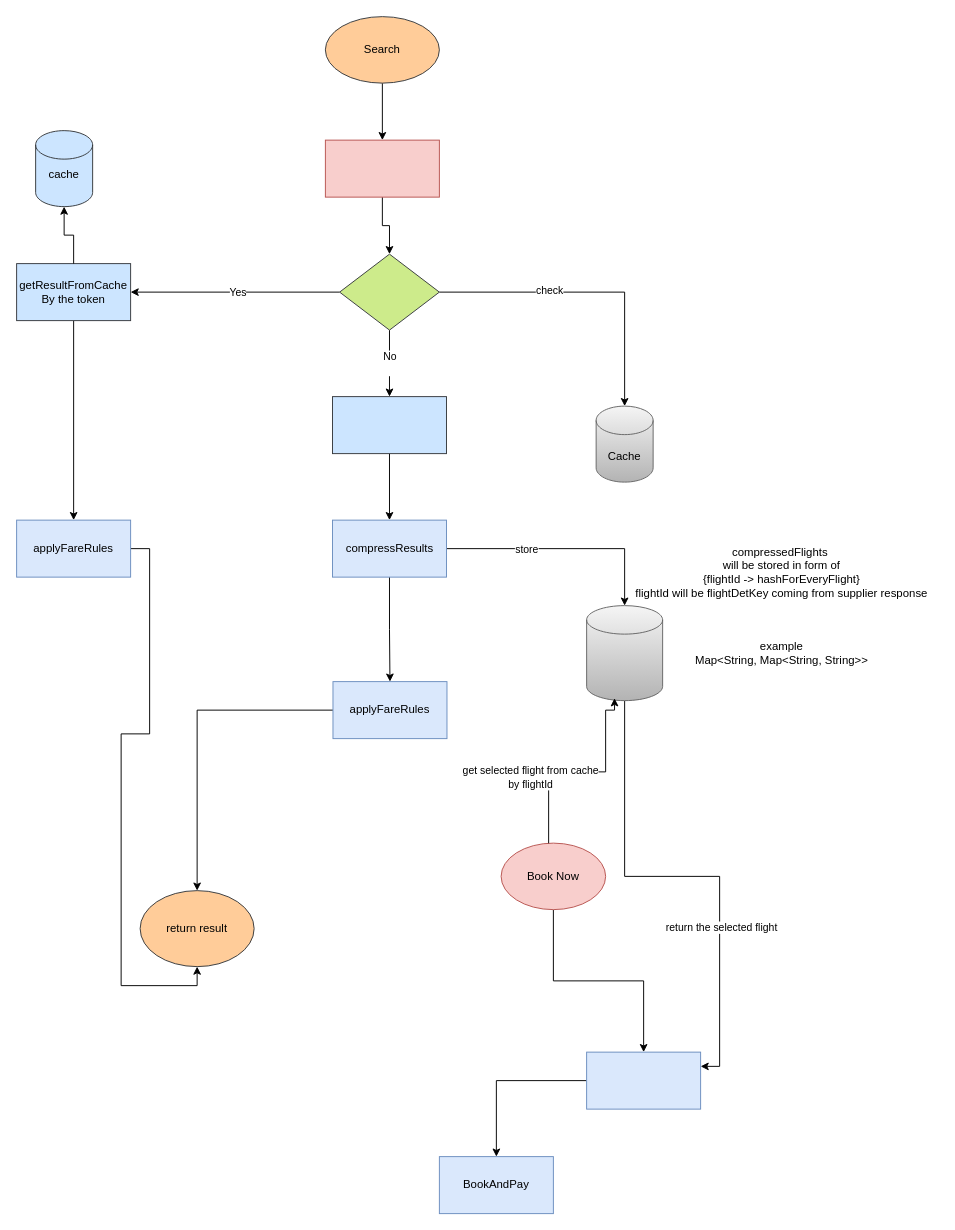
The diagram is 955 pixels wide and 1230 high, and some of its shapes have lost their labels. Here are the shapes that lost their labels. From the top down, the centre of each, then its label:
the point at 381,168: generateToken (SupplierConfigModel + FlightWidget)
the point at 389,291: check cache by the token
the point at 389,425: get search result from supplier (Call Supplier)
the point at 624,653: cache {token -> compressedFlights}
the point at 643,1080: fareConfirm
